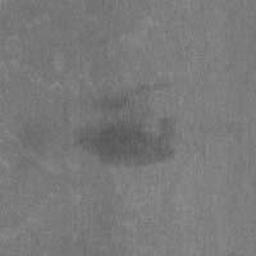Oil spot: (68, 81, 179, 169)
